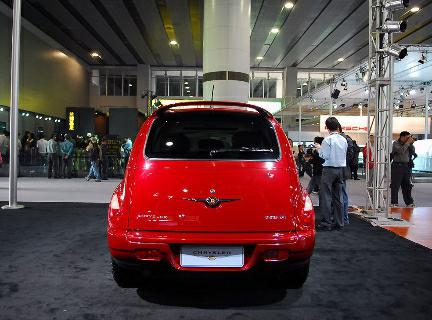克莱斯勒-PT漫步者: (99, 95, 323, 297)
